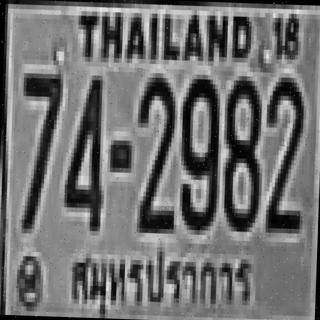N02: (261, 74, 303, 231), (135, 72, 177, 229)
N04: (61, 70, 105, 226)
N07: (16, 68, 61, 230)
N08: (221, 75, 260, 227)
N09: (177, 74, 219, 230)
P57: (57, 238, 256, 320)
